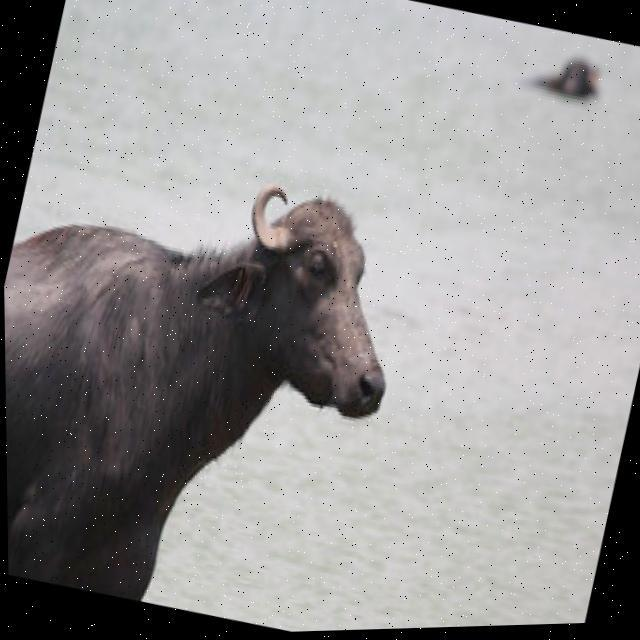Buffalo: (2, 118, 431, 640)
